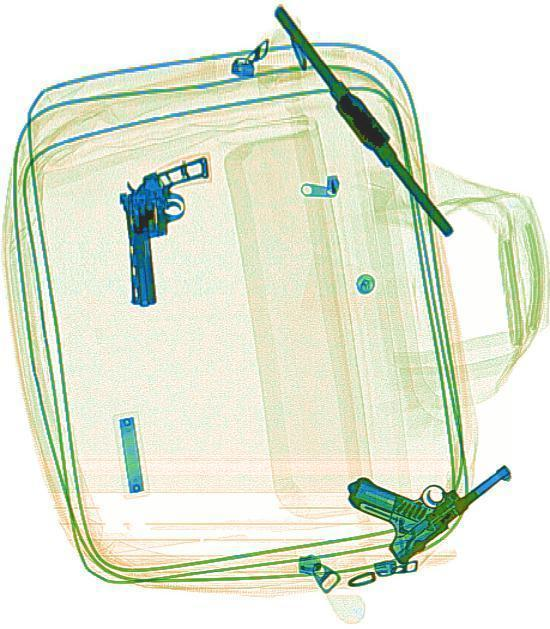Gun: (340, 428, 526, 573), (114, 154, 221, 309)
